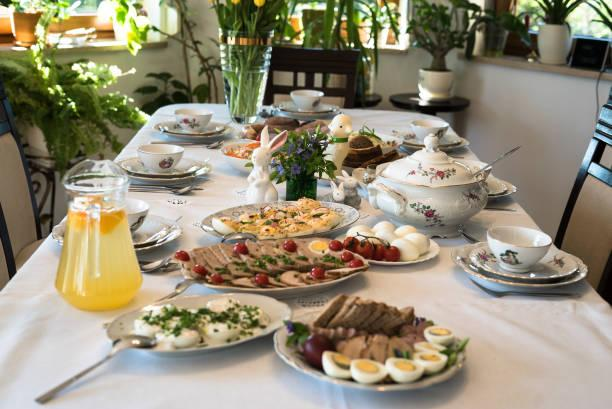Braised Crucian Carp: (274, 310, 466, 391), (106, 293, 286, 354), (178, 247, 362, 295), (200, 199, 354, 240), (332, 220, 451, 265)
